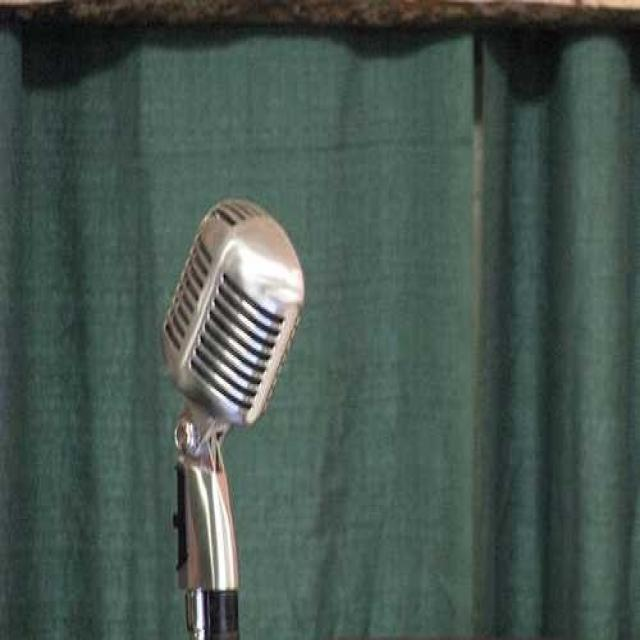microphone: (158, 194, 310, 636)
